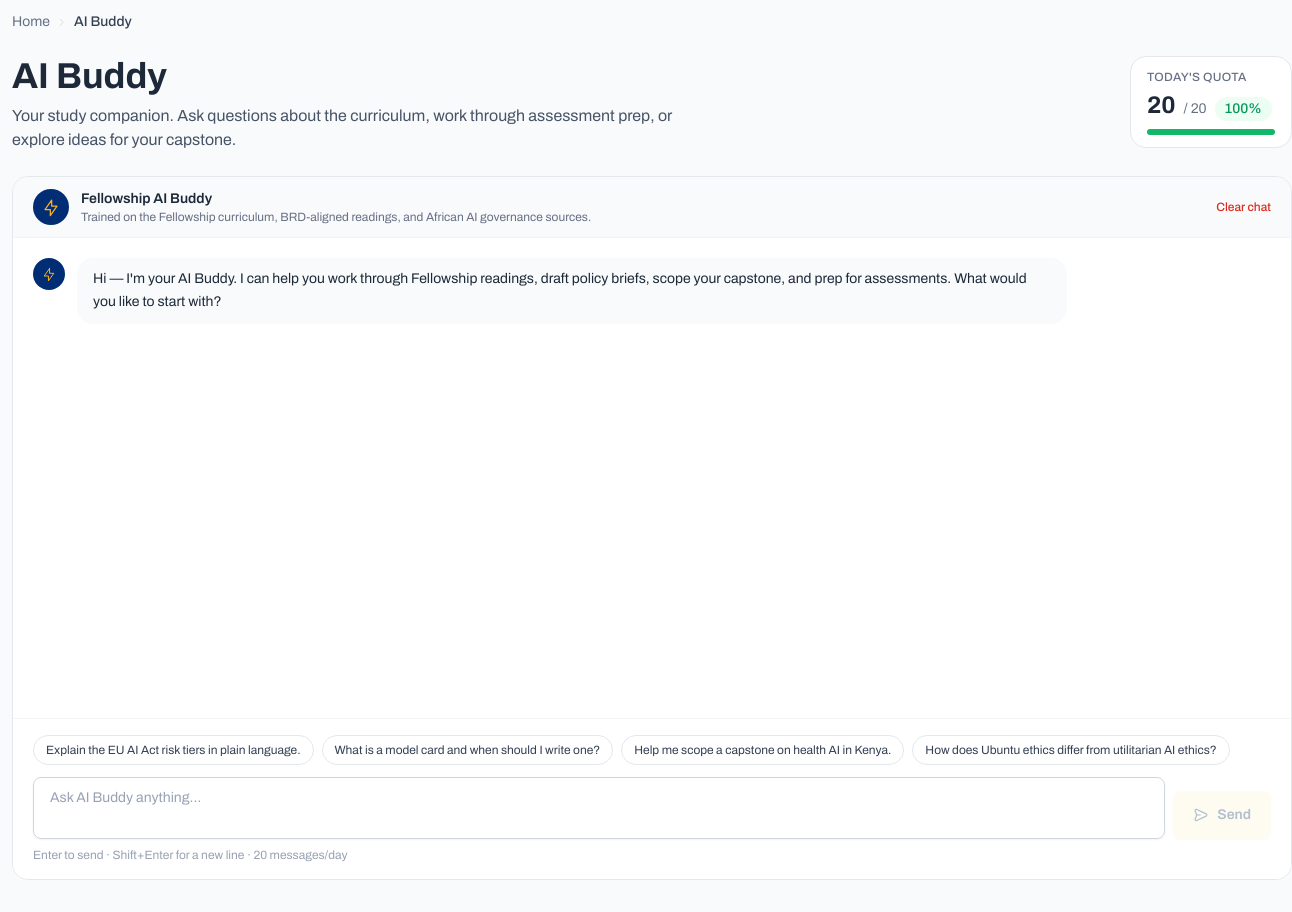
Scenario: AiBuddyChat › optimistically renders the user's bubble before the backend replies
The image size is (1292, 912).
Type "What's a model card?" into the text box with placeholder "Ask AI Buddy anything…".
click(599, 808); type("What's a model card?")  # box [33,777,1165,839]
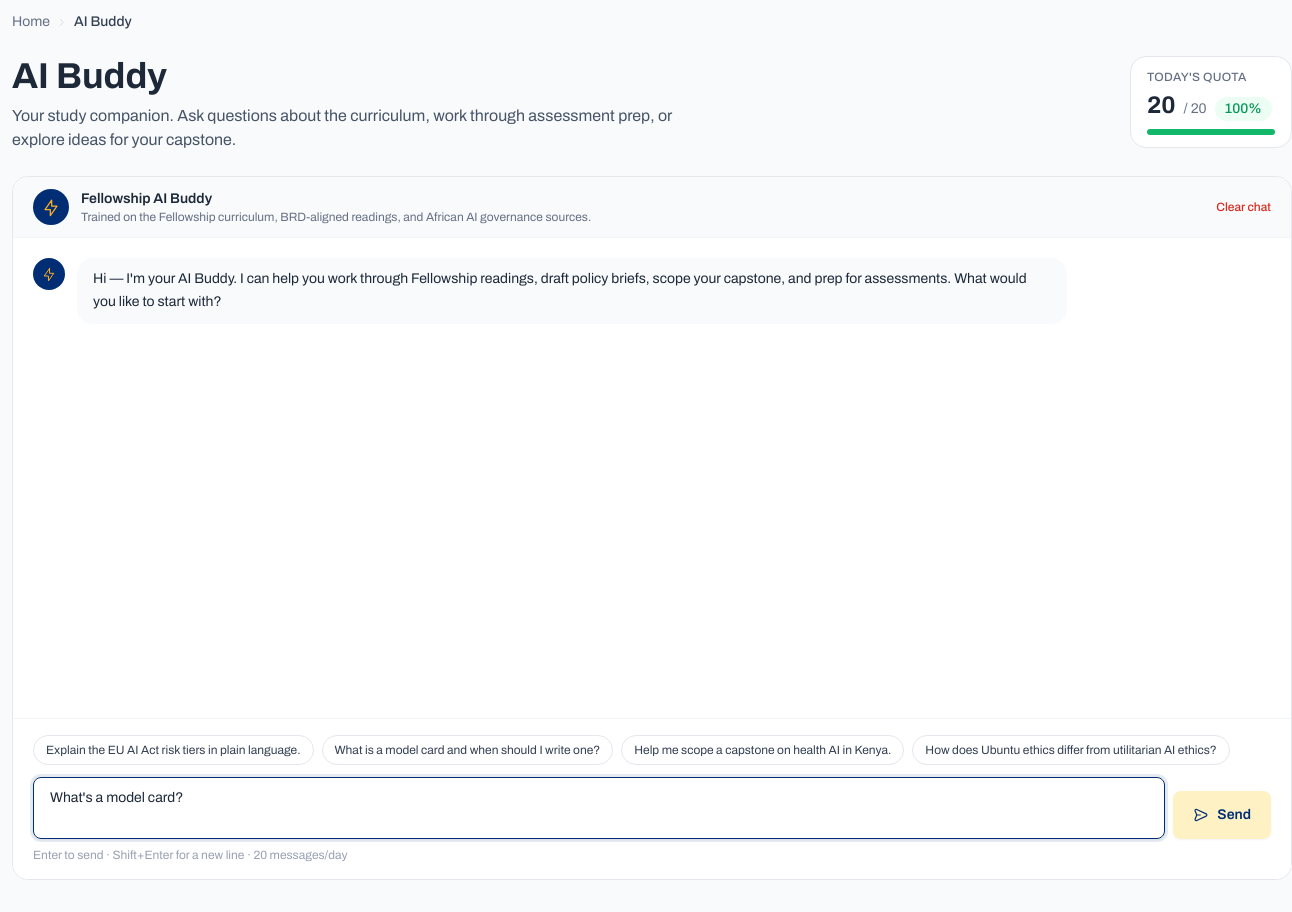
Click the button "Send".
click(1222, 815)  # box [1173,791,1271,839]
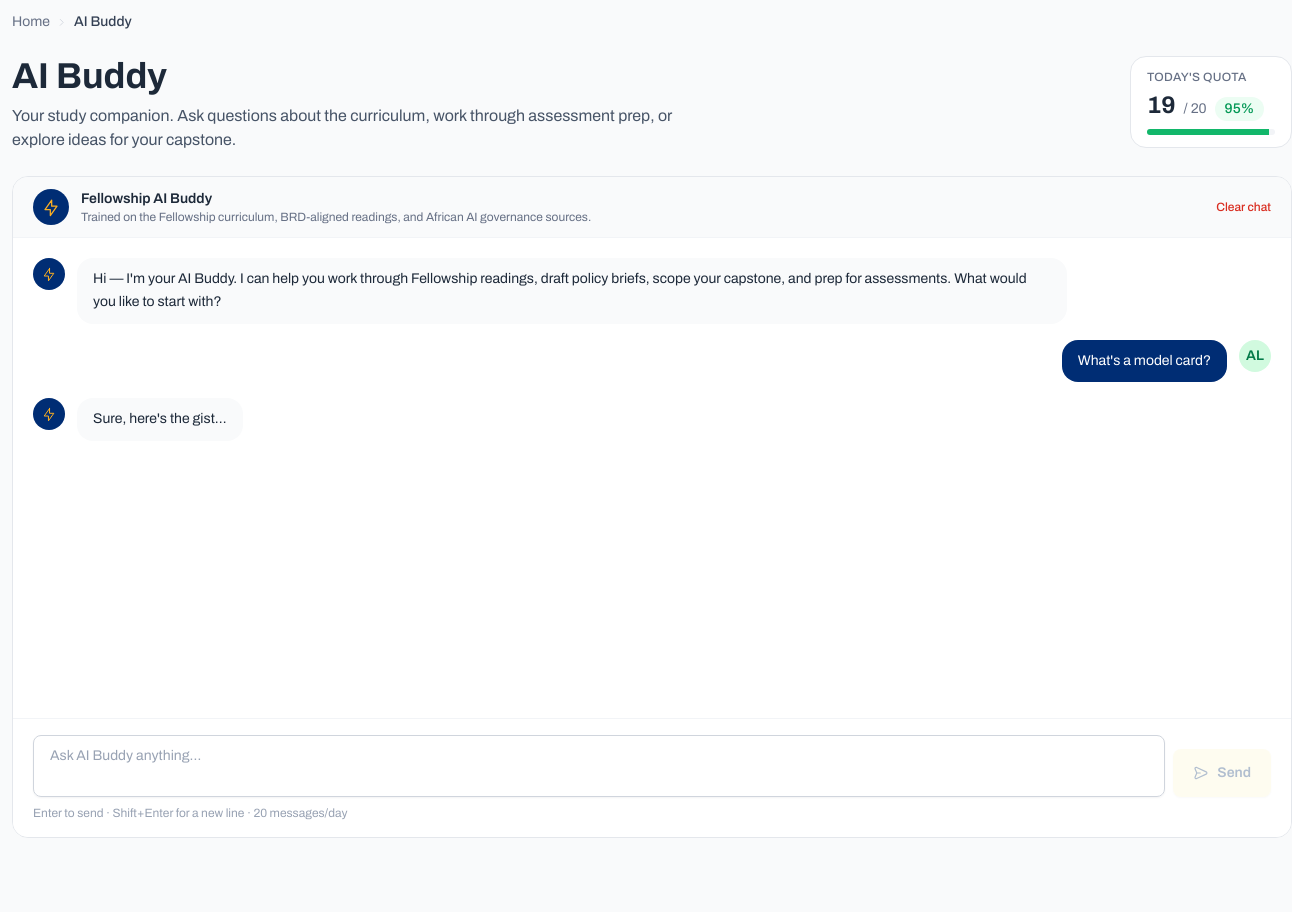
Check: the text "What's a model card?" is shown, box [1078,350,1211,372]
Check: the text "Sure, here's the gist…" is shown, box [93,408,227,431]
